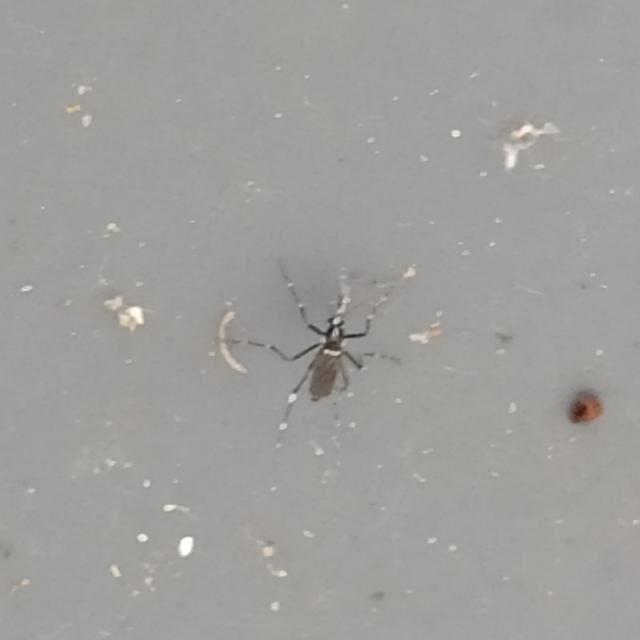albopictus: (196, 254, 417, 451)
